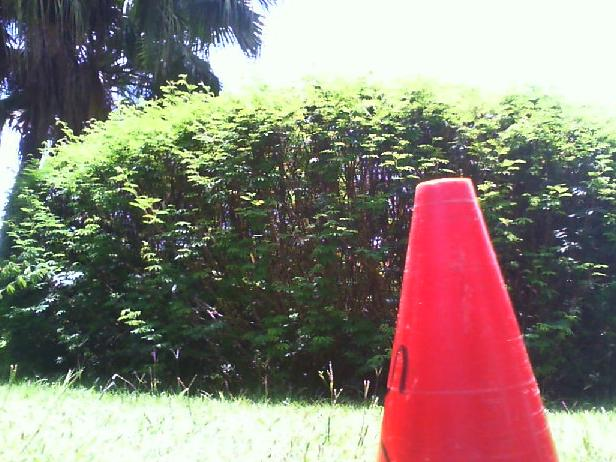0 cone: (375, 179, 563, 462)
